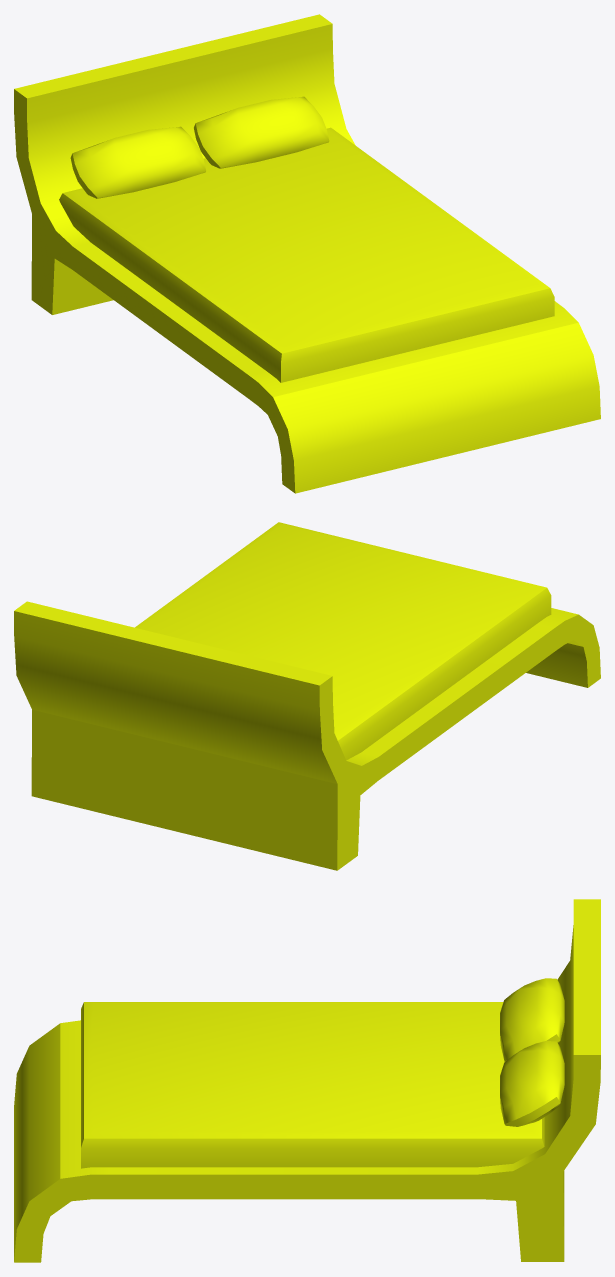
Rendered from Bed3.FBX.
3 renders of one model, top to bottom at view 1: azimuth 30°, elevation 25°; view 2: azimuth 150°, elevation 25°; view 3: azimuth 270°, elevation 25°, orthographic. The views are drawn at different scales.
Visible parts, largest first — view 1: Line001; view 2: Line001; view 3: Line001.
Part boxes in pixels (x1,y1,x2,y2): Line001: [14, 14, 600, 493]; Line001: [14, 522, 600, 870]; Line001: [14, 899, 600, 1262].
Size of the model in its own units: 2.52 by 1.56 by 4.01.
